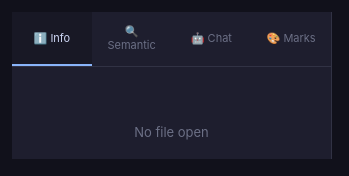
Test: Sidebar Component › switches between tabs
Note: Click Chat tab
Click the button "🤖 Chat" at [211, 39], box [172,12,251,66]
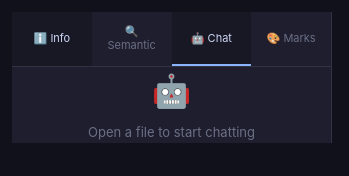
Now the text "Open a file to start chatting" is shown, box [88,123,255,142]
Note: Click Marks tab
Click the button "🎨 Marks" at [291, 39], box [251,12,331,66]
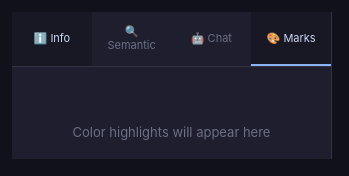
Now the text "Color highlights will appear here" is shown, box [72,124,270,140]
